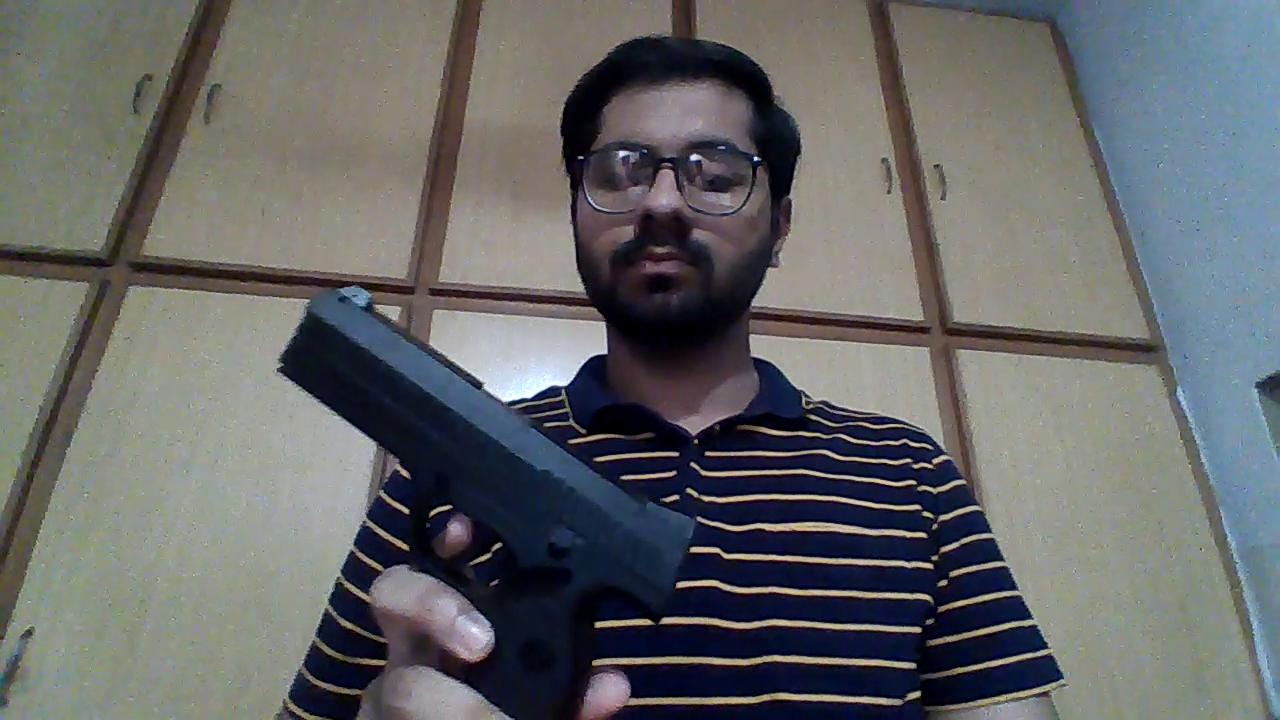criminal: (272, 34, 1069, 720)
weapon: (274, 280, 697, 720)
